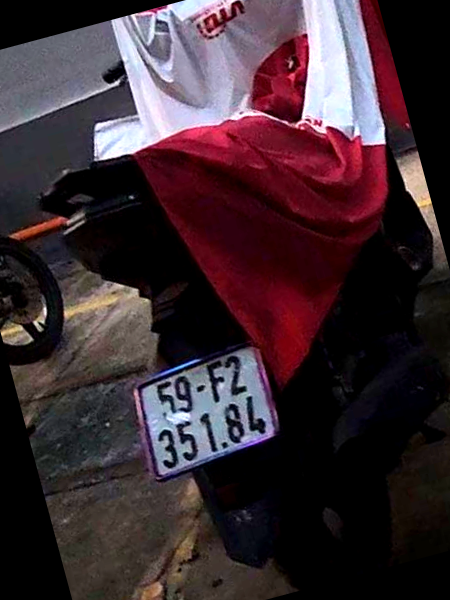number: (133, 348, 278, 476)
